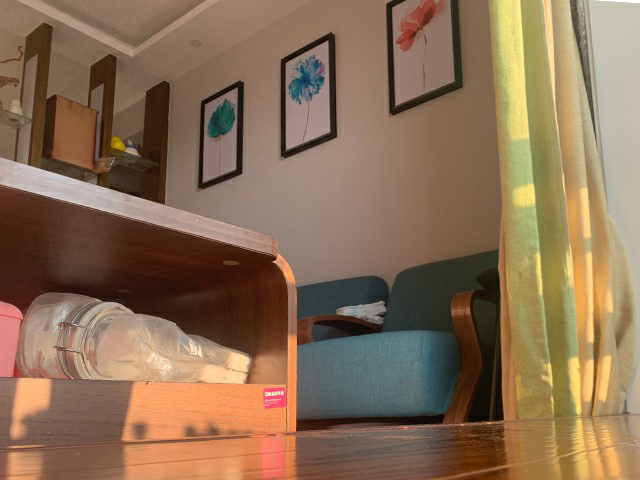curtain: (487, 1, 640, 418)
sofa: (298, 249, 501, 425)
table: (1, 158, 296, 447)
